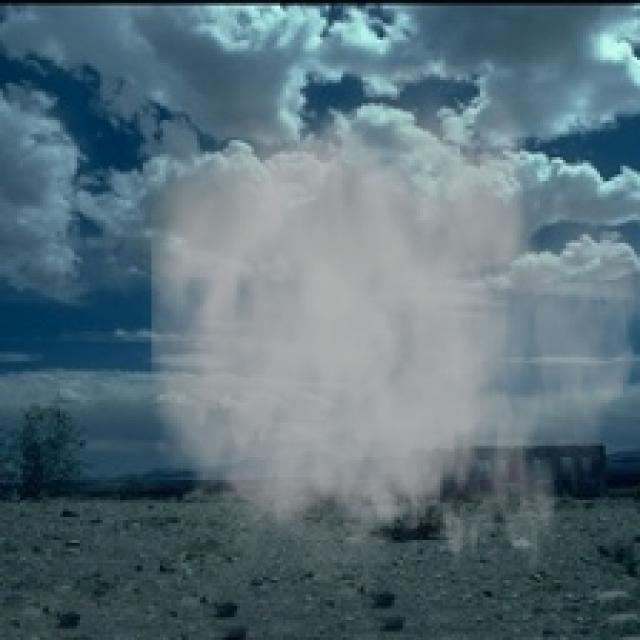Smoke: (120, 65, 637, 626)
